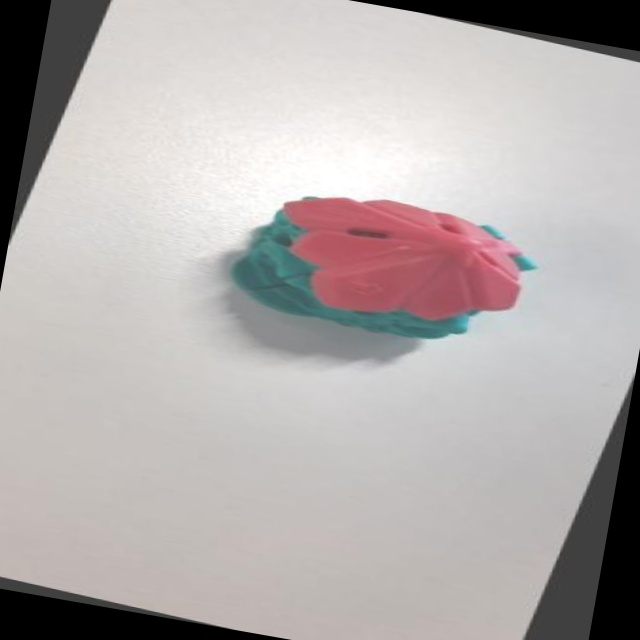House: (200, 156, 558, 375)
